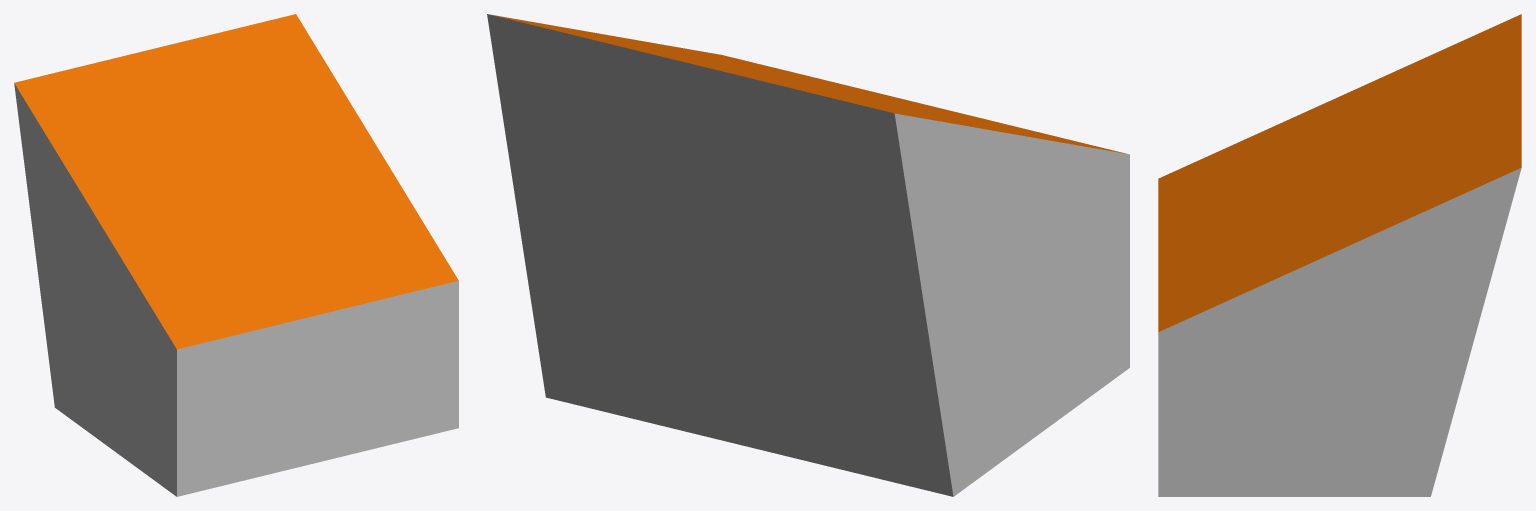
Rendered from ramp.fbx.
3 renders of one model, left to right at view 1: azimuth 30°, elevation 25°; view 2: azimuth 150°, elevation 25°; view 3: azimuth 270°, elevation 25°, orthographic. The views are drawn at different scales.
Parts seen in each view (by area): view 1: Cube; view 2: Cube; view 3: Cube.
Part boxes in pixels (x1,y1,x2,y2): Cube: [14, 14, 458, 496]; Cube: [487, 14, 1129, 496]; Cube: [1158, 14, 1521, 496].
Size of the model in its own units: 800 by 800 by 800.
